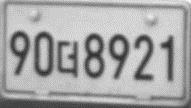0: (33, 30, 54, 77)
1: (158, 33, 176, 83)
2: (132, 32, 156, 82)
8: (83, 32, 105, 79)
9: (107, 33, 130, 81), (9, 30, 30, 75)
더: (55, 39, 79, 79)
